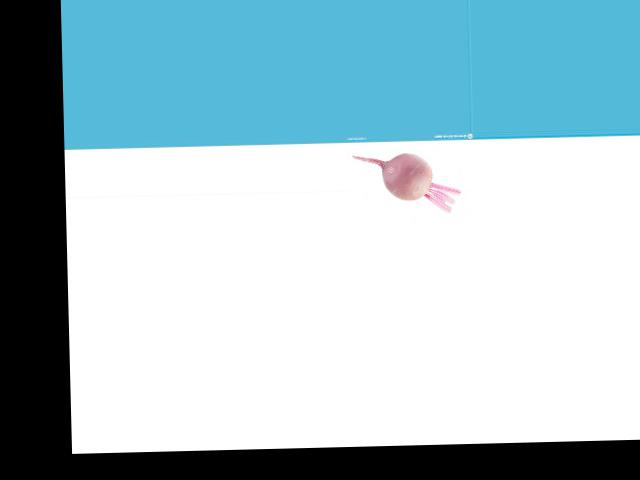beet: (353, 152, 460, 214)
